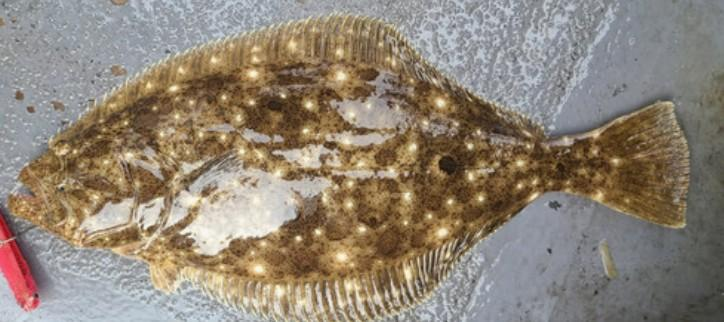fish: (5, 14, 689, 321)
